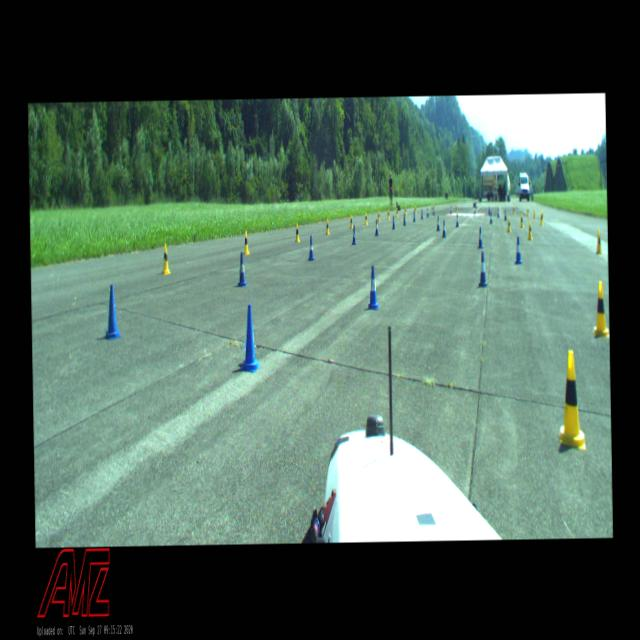blue_cone: (239, 304, 260, 372), (104, 284, 122, 338), (367, 264, 379, 310), (478, 252, 487, 286), (237, 252, 246, 286), (514, 236, 522, 263), (308, 235, 314, 260), (478, 226, 482, 248), (352, 225, 356, 244), (442, 220, 446, 238), (374, 218, 378, 236), (436, 216, 440, 230), (455, 212, 459, 226), (392, 214, 395, 229), (489, 210, 492, 223), (403, 212, 406, 225), (503, 209, 506, 220), (412, 210, 414, 221), (420, 208, 422, 219), (496, 206, 498, 217), (432, 206, 434, 215), (426, 208, 428, 216)
yellow_cone: (558, 350, 586, 450), (592, 280, 609, 338), (162, 243, 170, 273), (595, 230, 602, 254), (242, 230, 248, 255), (294, 223, 300, 242), (528, 220, 532, 240), (326, 218, 330, 234), (507, 216, 511, 232), (520, 212, 524, 228), (539, 211, 542, 224), (364, 212, 367, 224), (377, 210, 380, 222), (386, 209, 389, 219), (395, 207, 398, 217), (350, 215, 352, 228), (541, 210, 543, 220), (526, 206, 528, 216), (414, 205, 416, 214), (404, 206, 406, 214), (430, 204, 432, 212)
